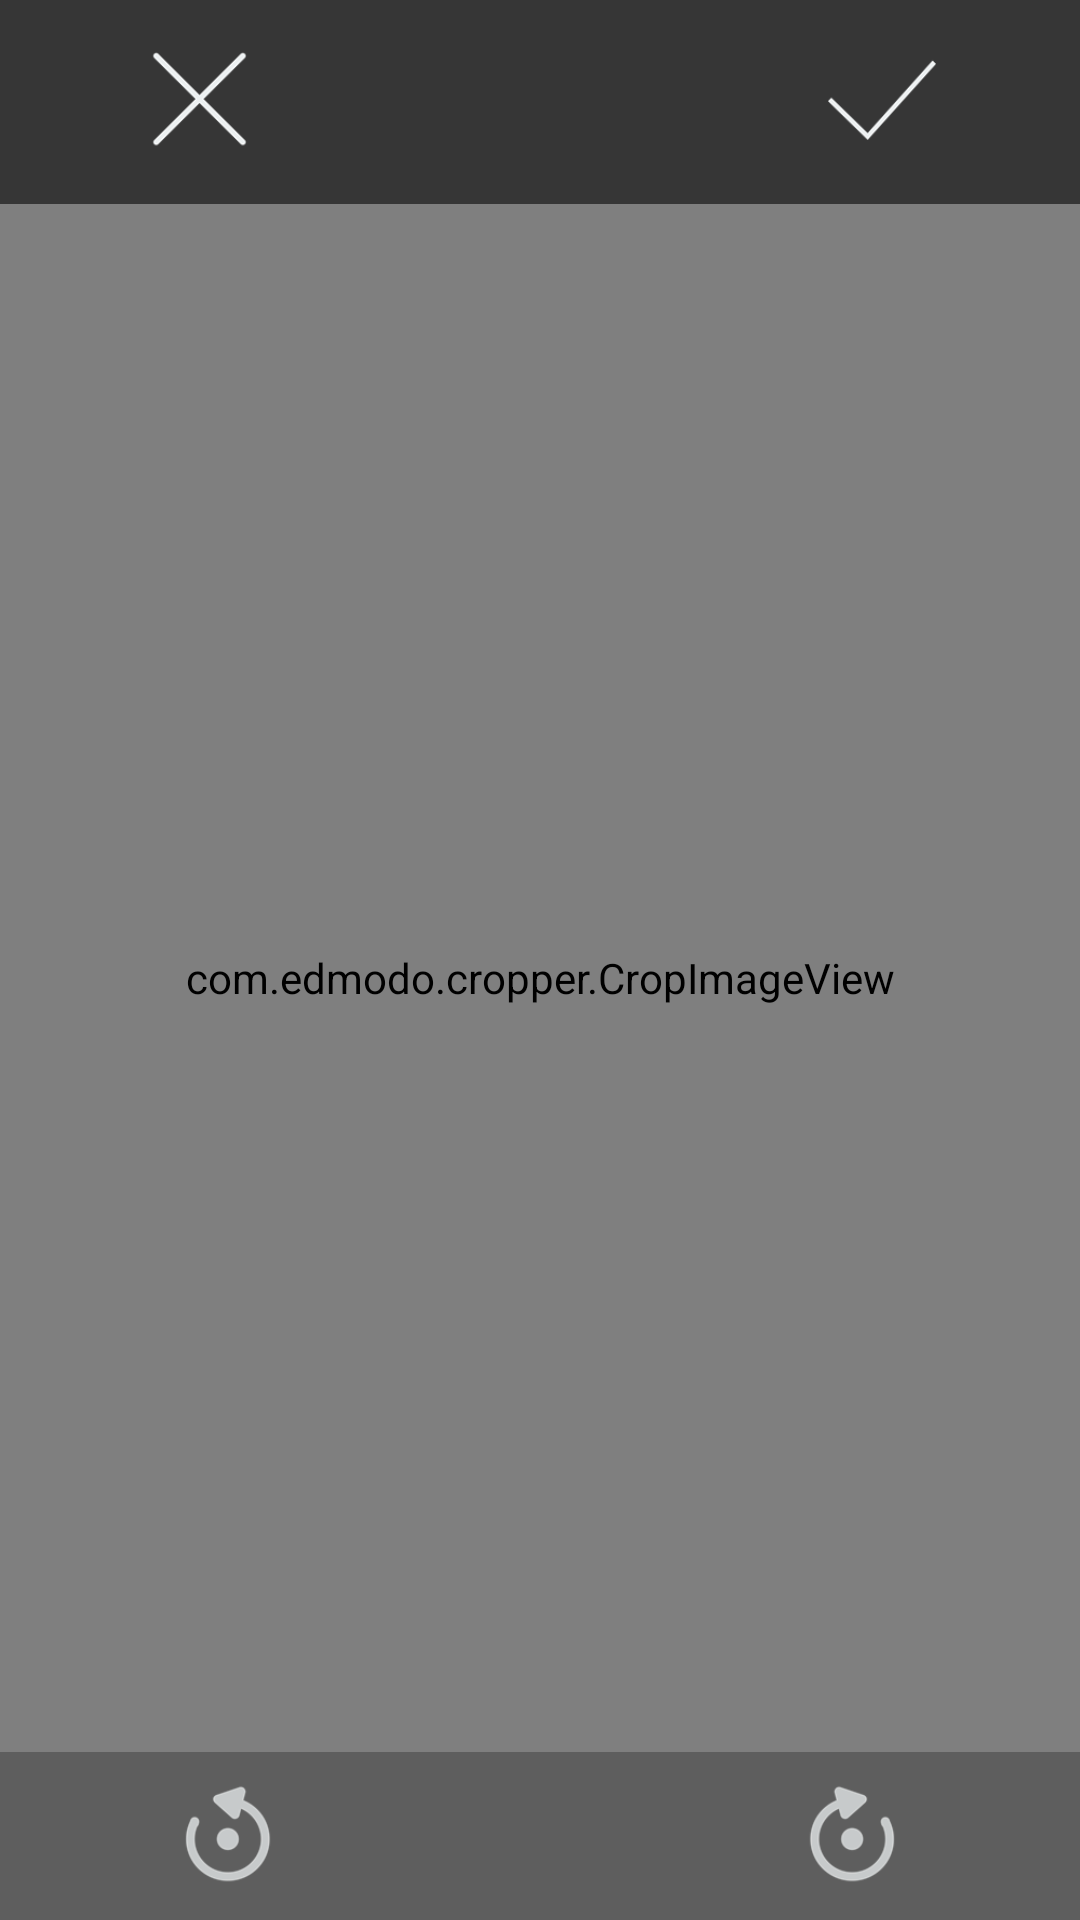

Locate icon controls on the screen. Image size 1080 × 1920, boxes as (x1, y1, x2, y2).
close: (153, 52, 246, 146)
rotate left: (186, 1786, 270, 1881)
rotate right: (810, 1786, 894, 1881)
